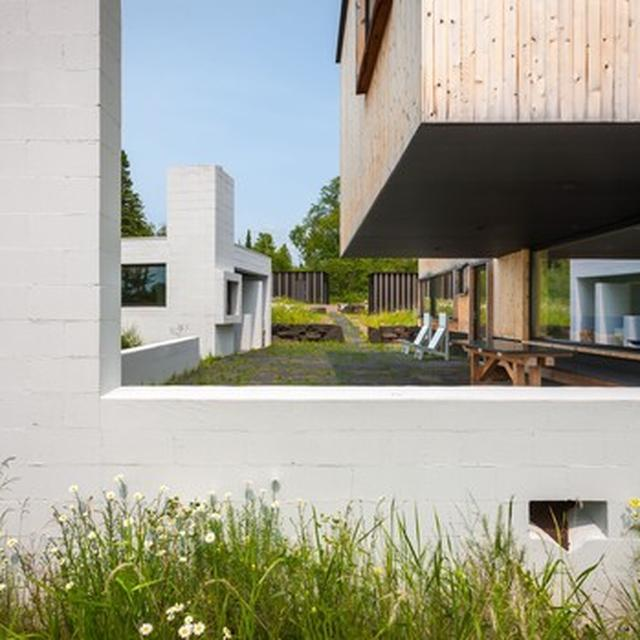building: (337, 0, 640, 392), (117, 162, 281, 361)
